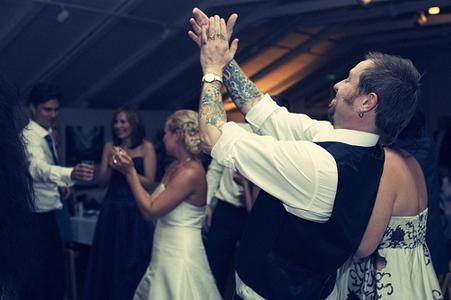person without safety: (276, 46, 430, 281), (139, 98, 210, 229), (17, 81, 71, 224), (97, 105, 148, 215)
